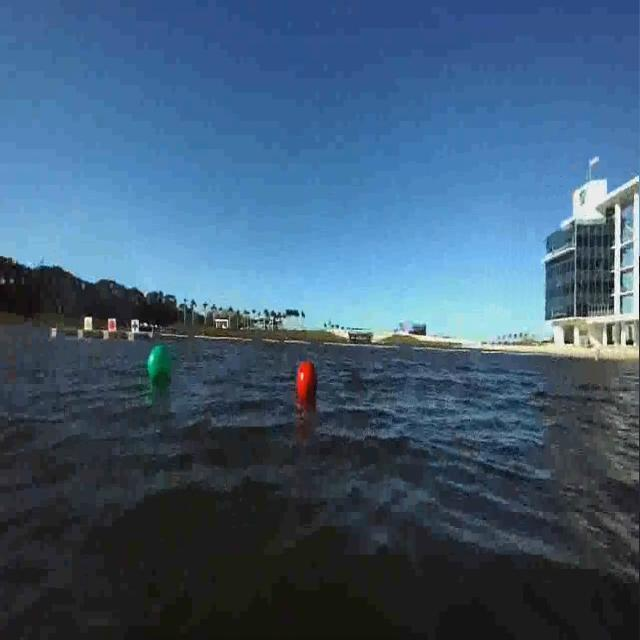green-buoy: (146, 343, 172, 382)
red-buoy: (298, 362, 318, 400)
